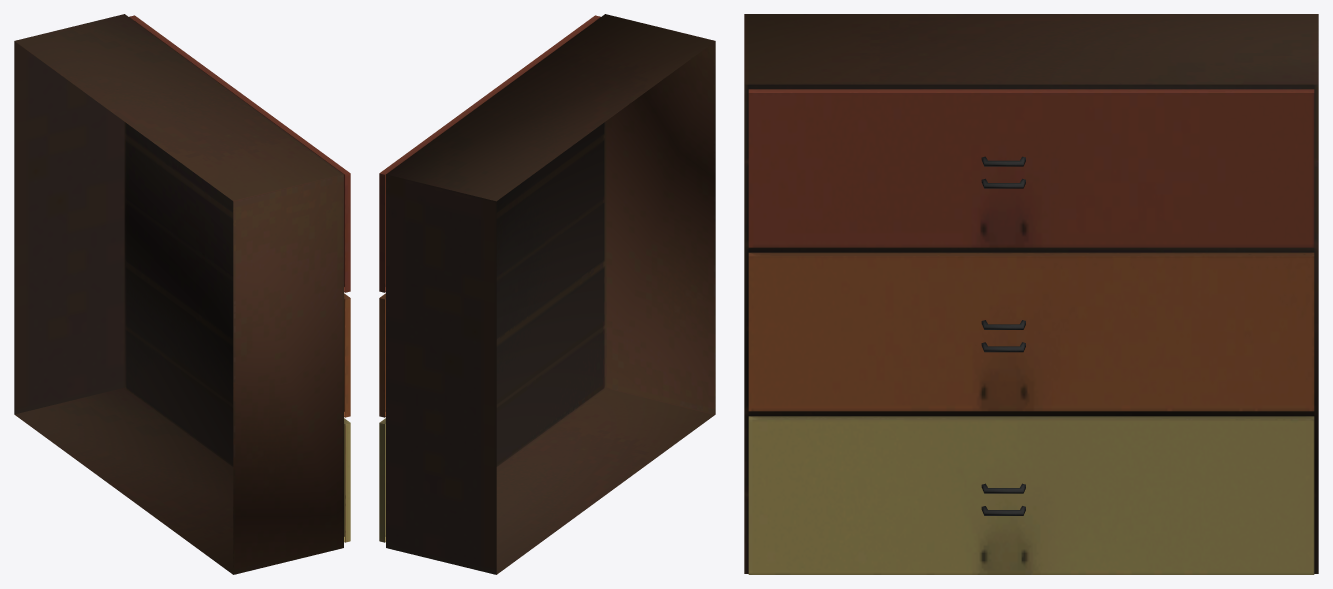
Rendered from nt_shelf_modern_LOD2.obj.
The picture shows the model from 3 angles, left to right: view 1: azimuth 30°, elevation 25°; view 2: azimuth 150°, elevation 25°; view 3: azimuth 270°, elevation 25°; orthographic projection. The views are drawn at different scales.
Visible parts, largest first — view 1: mtl_nt_shelf_modern; view 2: mtl_nt_shelf_modern; view 3: mtl_nt_shelf_modern.
Boxes of the visible parts, x1,y1,x2,y2 form: mtl_nt_shelf_modern: (14, 14, 350, 574); mtl_nt_shelf_modern: (379, 14, 715, 574); mtl_nt_shelf_modern: (744, 14, 1318, 574).
Size of the model in its own units: 57.41 by 160 by 170.
